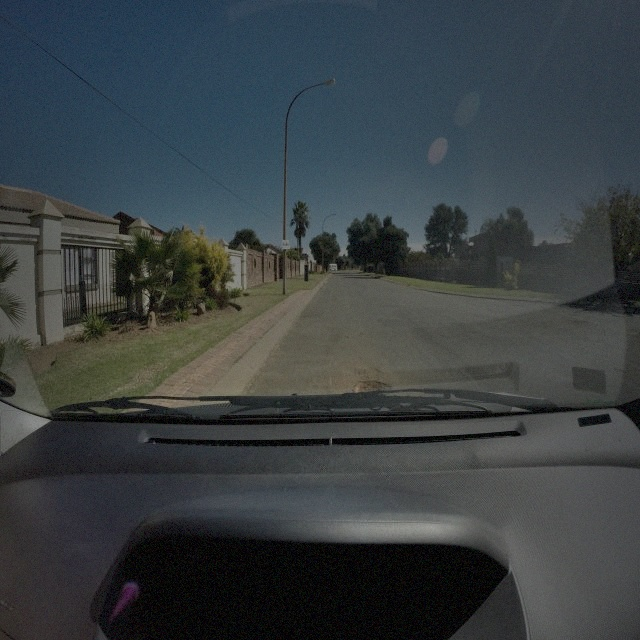pothole: (351, 374, 390, 391)
